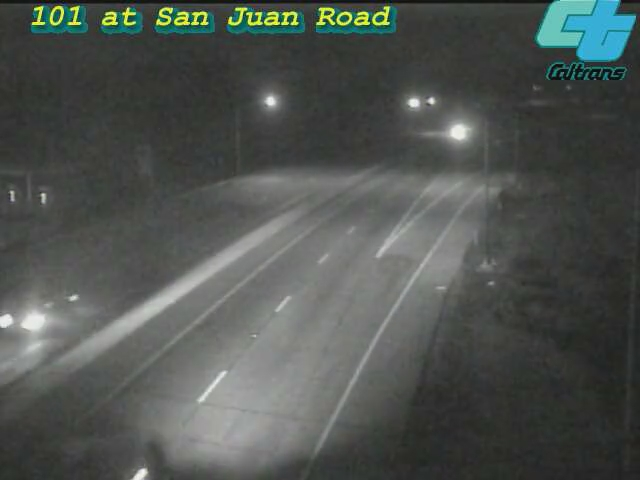vehicle: (1, 268, 72, 378), (61, 415, 171, 480), (432, 106, 482, 156)
